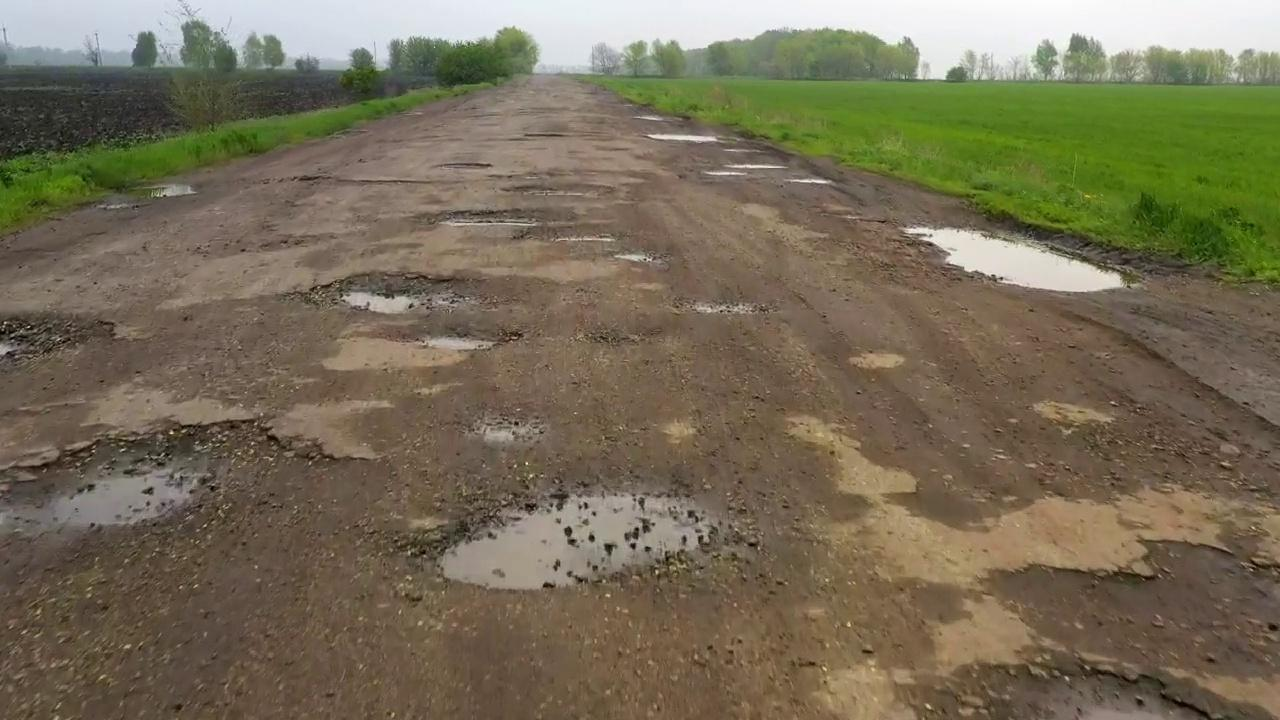bache: (0, 422, 251, 538), (439, 491, 721, 588), (904, 229, 1125, 292), (294, 273, 492, 314), (0, 313, 114, 369), (414, 316, 522, 353), (436, 211, 538, 227), (676, 302, 770, 314), (613, 252, 667, 266), (705, 170, 746, 176), (727, 164, 786, 168), (786, 178, 830, 183)
